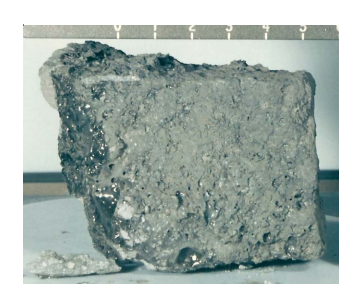Breccia: (41, 44, 335, 262), (158, 121, 292, 248)
